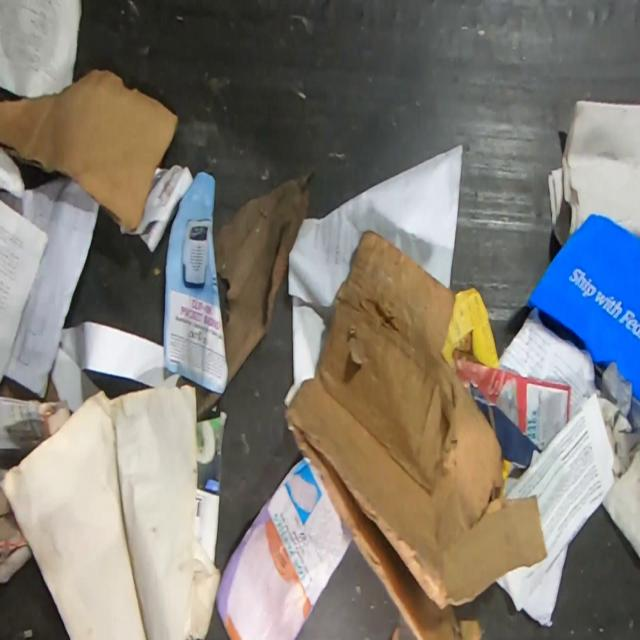cardboard: (285, 230, 547, 640), (0, 69, 177, 233), (526, 213, 640, 405)
